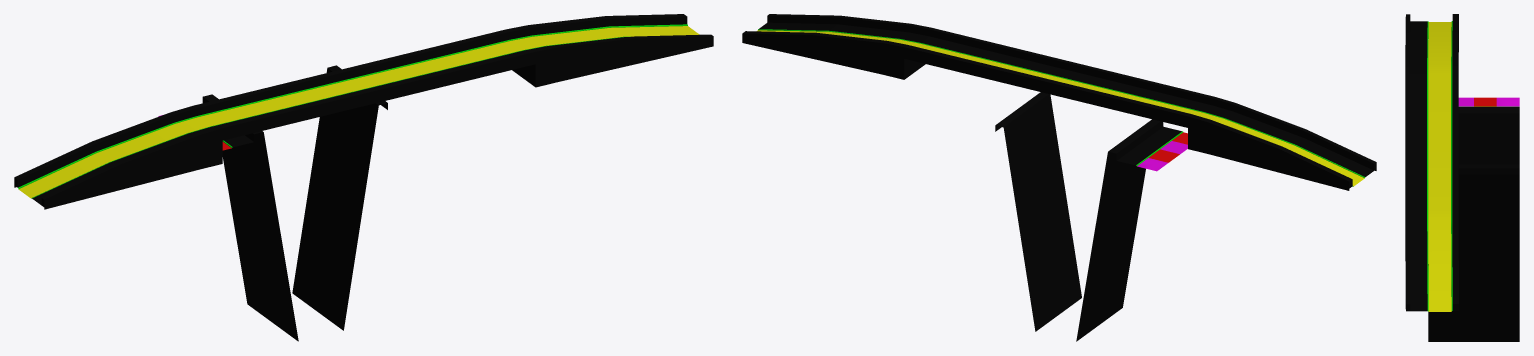
File: Riverbk.FBX
The picture shows the model from 3 angles, left to right: view 1: azimuth 30°, elevation 25°; view 2: azimuth 150°, elevation 25°; view 3: azimuth 270°, elevation 25°; orthographic projection. The views are drawn at different scales.
Visible parts, largest first — view 1: Bridge; view 2: Bridge; view 3: Bridge.
Part boxes in pixels (x1,y1,x2,y2): Bridge: [14, 14, 713, 341]; Bridge: [742, 14, 1376, 341]; Bridge: [1405, 14, 1519, 341].
Bounding box in the file's own units: 3548 × 1243 × 591.
